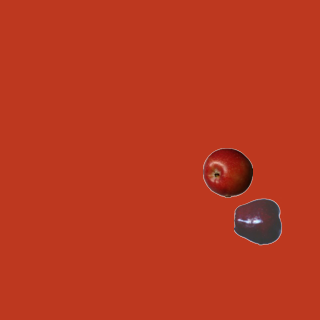Apple Braeburn: (202, 147, 252, 197)
Apple Red Delicious: (233, 196, 283, 246)
